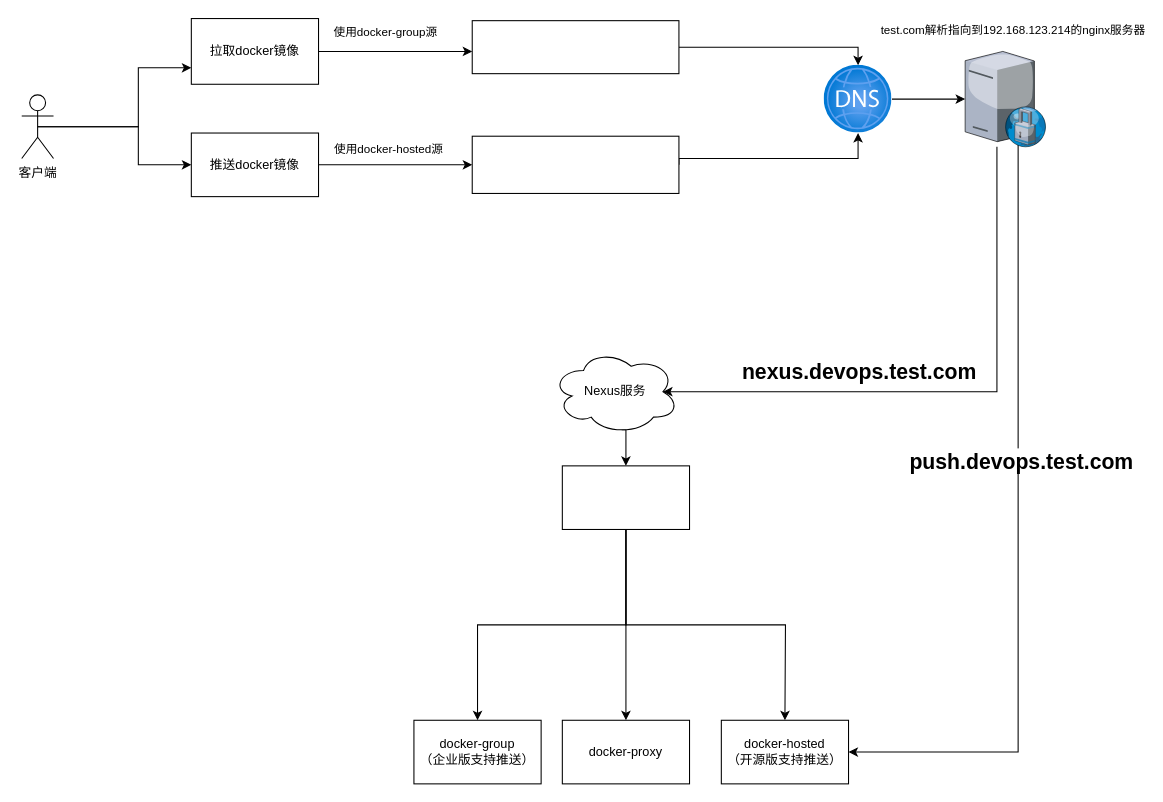
Some shapes in this 1163 by 802 pixel diagram are drawn without their labels. The centre of each missing label's shape, as x and y in pixels:
Docker: (625,497)
https://nexus.devops.test.com/: (575,47)
https://push.devops.test.com/: (575,164)
